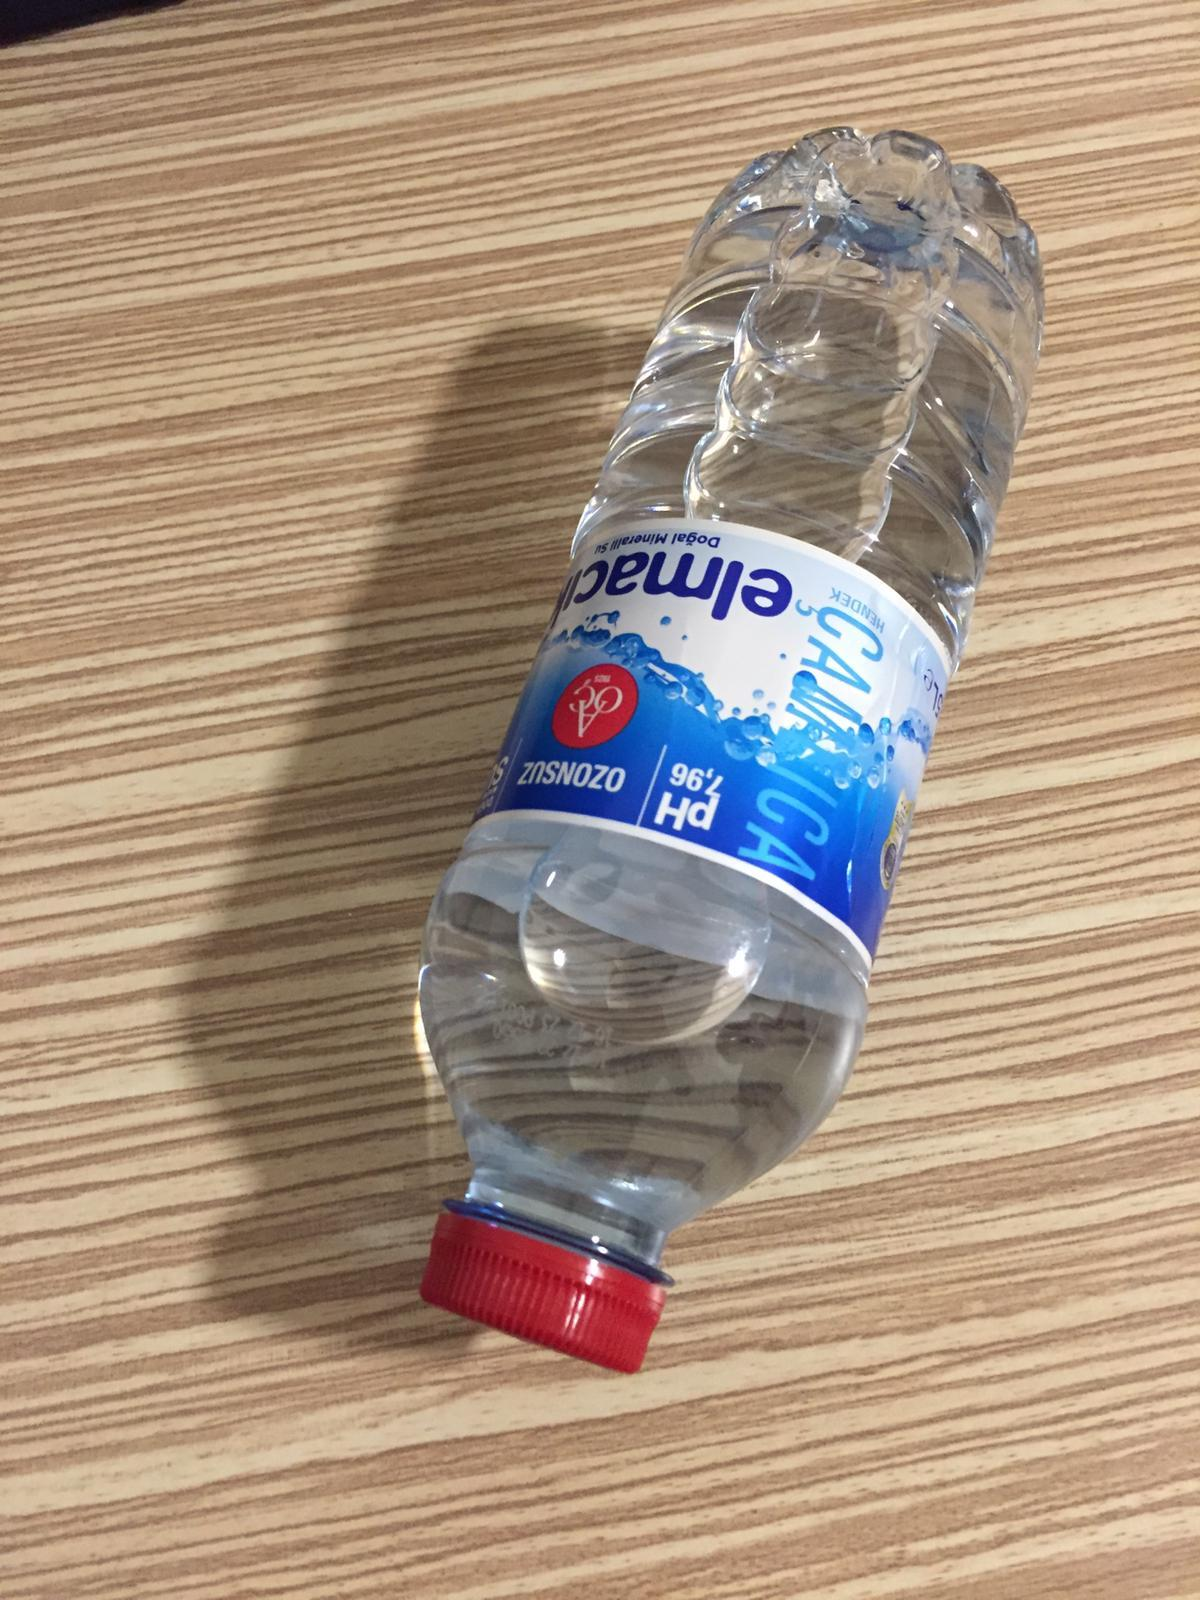bottle: (415, 117, 1055, 1380)
